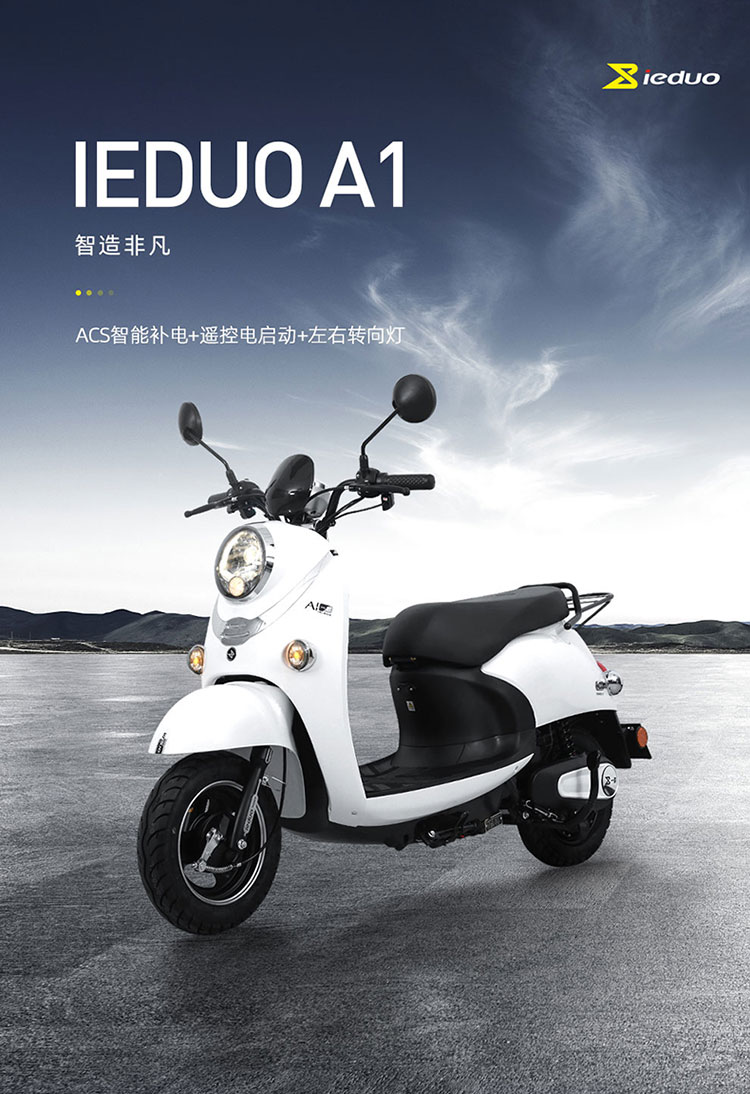电动车: (118, 363, 673, 964)
